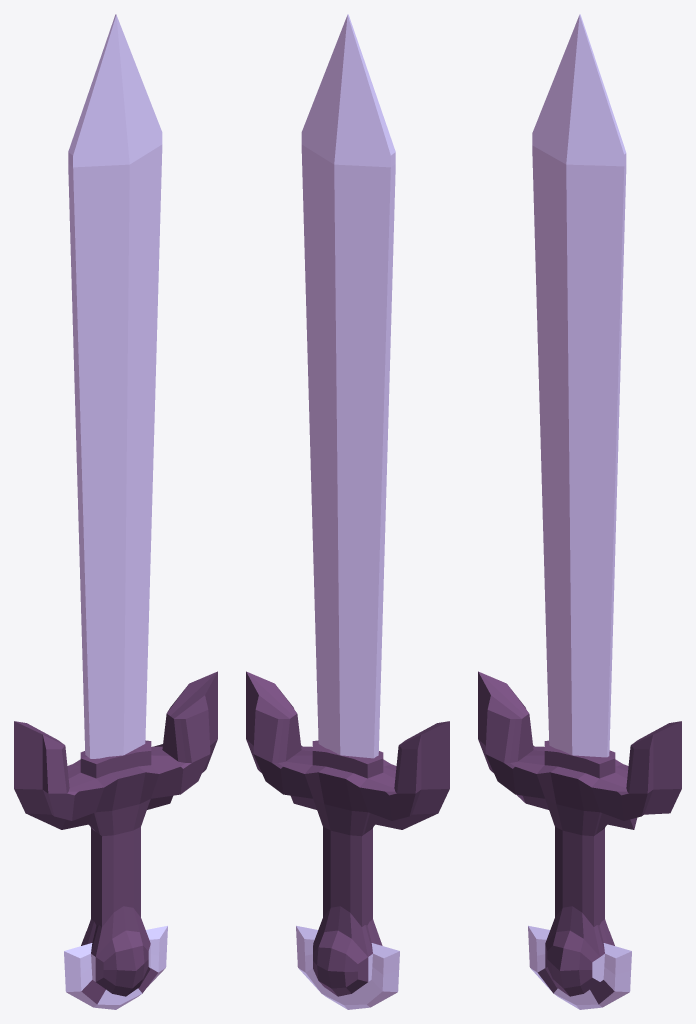
Rendered from NEWupgradedSword.fbx.
3 renders of one model, left to right at view 1: azimuth 30°, elevation 25°; view 2: azimuth 150°, elevation 25°; view 3: azimuth 330°, elevation 25°, orthographic.
Visible parts, largest first — view 1: blade, hilt; view 2: blade, hilt; view 3: blade, hilt.
Part boxes in pixels (bbox=[...]): blade: bbox=[68, 14, 162, 758]; hilt: bbox=[14, 671, 217, 1009]; blade: bbox=[301, 14, 395, 758]; hilt: bbox=[246, 671, 449, 1009]; blade: bbox=[532, 14, 626, 757]; hilt: bbox=[478, 671, 681, 1009].
Size of the model in its own units: 11.12 by 51.9 by 3.79.
